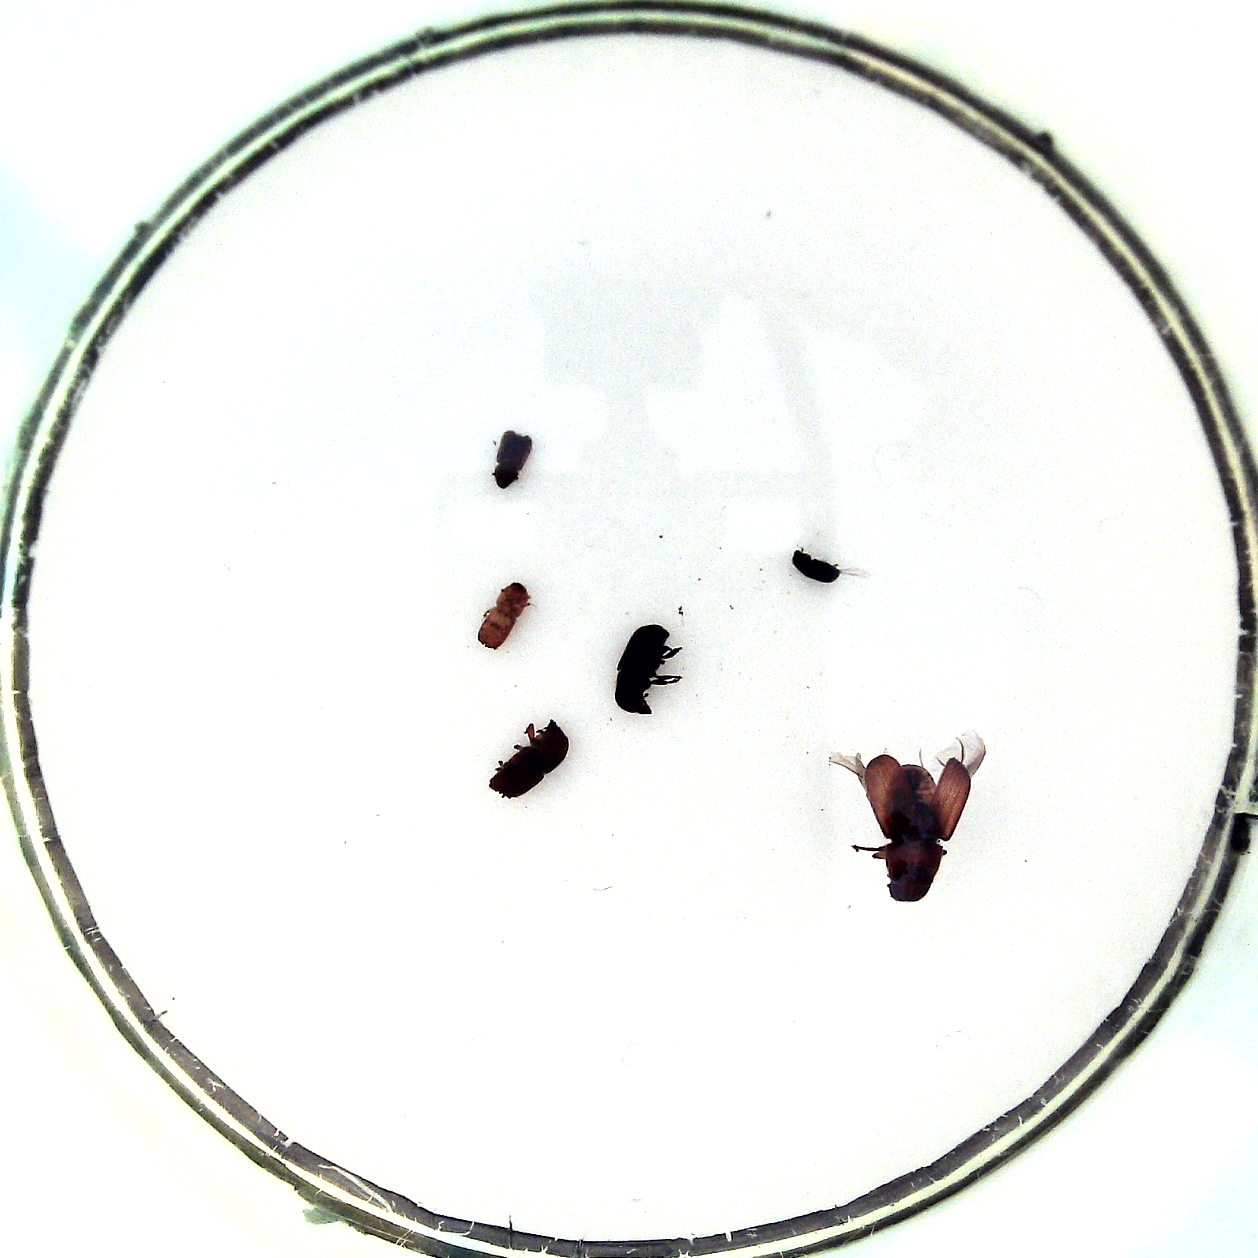Leconte: (864, 755, 972, 903)
acuminatus: (791, 550, 839, 582)
armandi: (614, 624, 670, 715)
coleoptera: (478, 582, 529, 650), (493, 430, 532, 488)
linnaeus: (488, 718, 569, 799)
